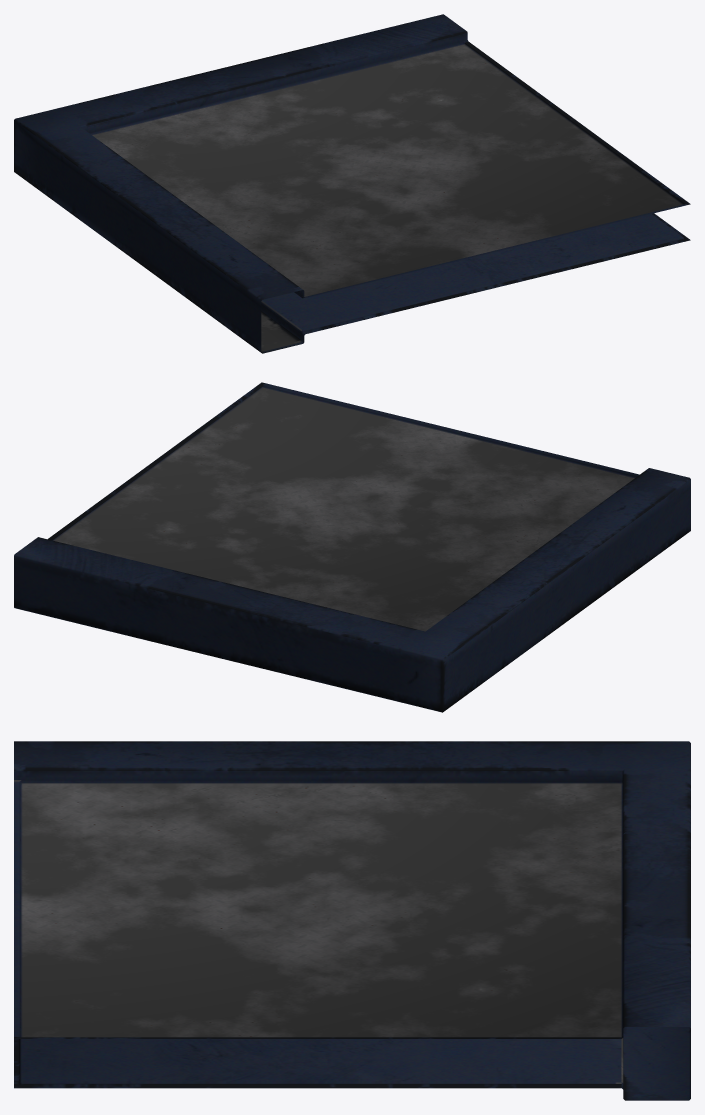
The model's file is platform_mod_02.gltf.
3 views of the same model, one above another, from view 1: azimuth 30°, elevation 25°; view 2: azimuth 150°, elevation 25°; view 3: azimuth 270°, elevation 25° (orthographic). The views are drawn at different scales.
Visible parts, largest first — view 1: platform_modular_02; view 2: platform_modular_02; view 3: platform_modular_02.
Boxes of the visible parts, <box> form: platform_modular_02: <box>14,14,690,353</box>; platform_modular_02: <box>14,382,690,712</box>; platform_modular_02: <box>14,741,690,1100</box>.
Bounding box in the file's own units: 2 × 0.24 × 2.
Materials: 1 (1 with a texture image).
